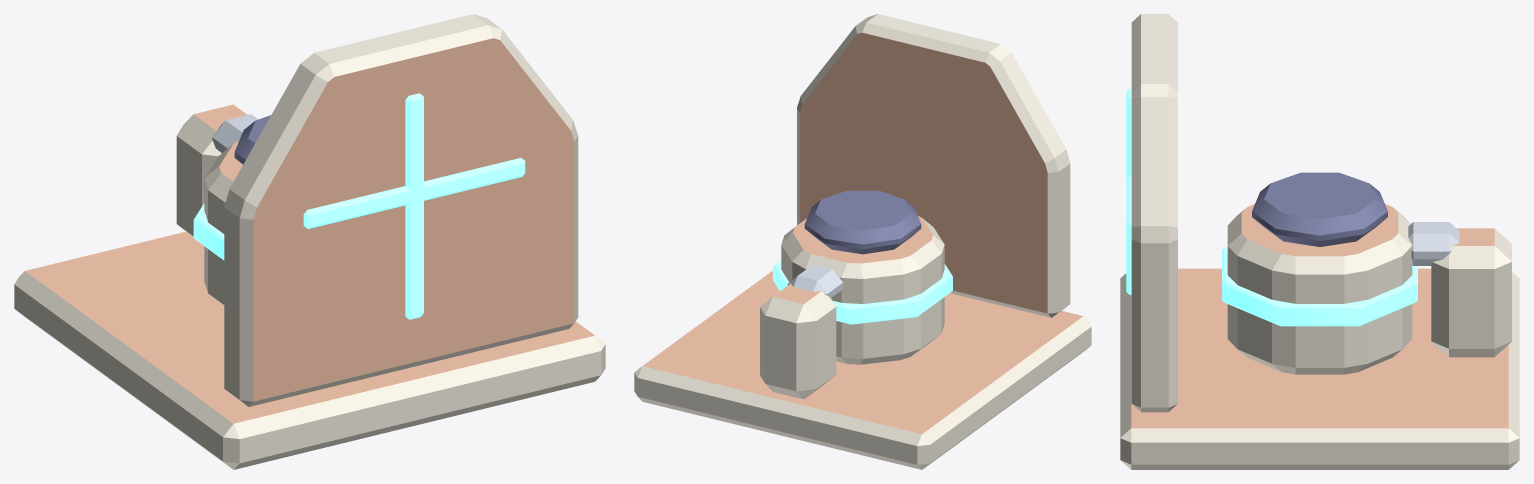
Rendered from R4X_DefensiveTurretDeployer_LOD1.fbx.
The picture shows the model from 3 angles, left to right: view 1: azimuth 30°, elevation 25°; view 2: azimuth 150°, elevation 25°; view 3: azimuth 270°, elevation 25°; orthographic projection. The views are drawn at different scales.
Parts seen in each view (by area): view 1: R4X_DefensiveTurretDeployer_LOD1; view 2: R4X_DefensiveTurretDeployer_LOD1; view 3: R4X_DefensiveTurretDeployer_LOD1.
Part boxes in pixels (x1,y1,x2,y2): R4X_DefensiveTurretDeployer_LOD1: (14,14,605,469); R4X_DefensiveTurretDeployer_LOD1: (634,14,1091,469); R4X_DefensiveTurretDeployer_LOD1: (1120,14,1519,469).
Size of the model in its own units: 0.52 by 0.49 by 0.52.
